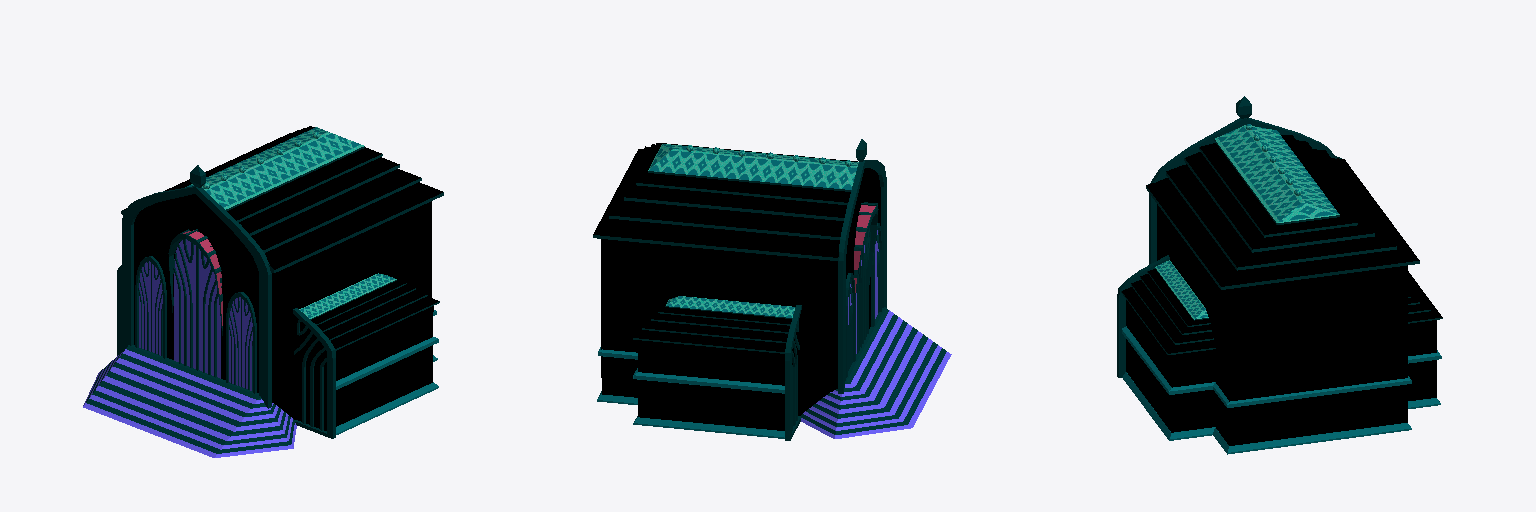
3 renders of one model, left to right at view 1: azimuth 30°, elevation 25°; view 2: azimuth 150°, elevation 25°; view 3: azimuth 270°, elevation 25°, orthographic.
Visible parts, largest first — view 1: polySurface3354; view 2: polySurface3354; view 3: polySurface3354.
Part boxes in pixels (x1,y1,x2,y2): polySurface3354: (83, 126, 443, 457); polySurface3354: (593, 139, 951, 440); polySurface3354: (1117, 96, 1442, 454).
Size of the model in its own units: 13.24 by 9.78 by 11.74.
9 materials, 4 textured.